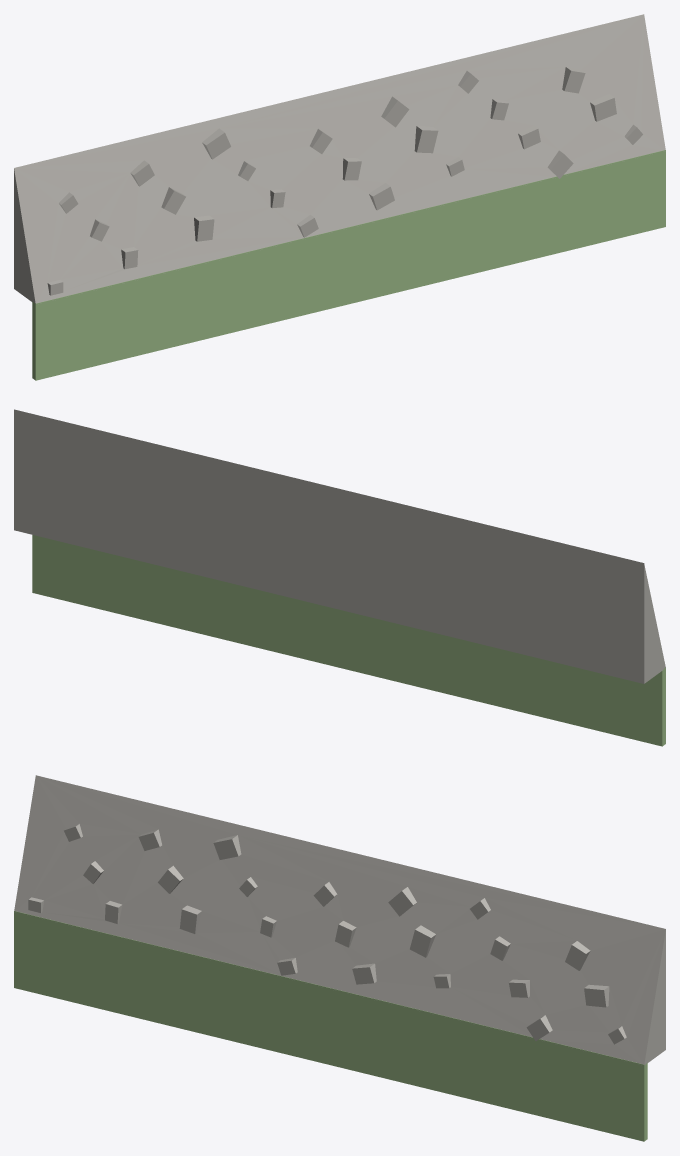
The model's file is r-147-canal-basalt-riprap-bank.glb.
3 renders of one model, top to bottom at view 1: azimuth 30°, elevation 25°; view 2: azimuth 150°, elevation 25°; view 3: azimuth 330°, elevation 25°, orthographic.
Visible parts, largest first — view 1: riprap-slope, grass-verge; view 2: riprap-slope, grass-verge; view 3: riprap-slope, grass-verge.
Boxes of the visible parts, x1,y1,x2,y2 form: riprap-slope: [14, 14, 665, 303]; grass-verge: [32, 150, 665, 380]; riprap-slope: [14, 409, 665, 683]; grass-verge: [32, 535, 665, 746]; riprap-slope: [14, 775, 665, 1065]; grass-verge: [14, 911, 647, 1141].
Bounding box in the file's own units: 30000 × 8951 × 1893.
